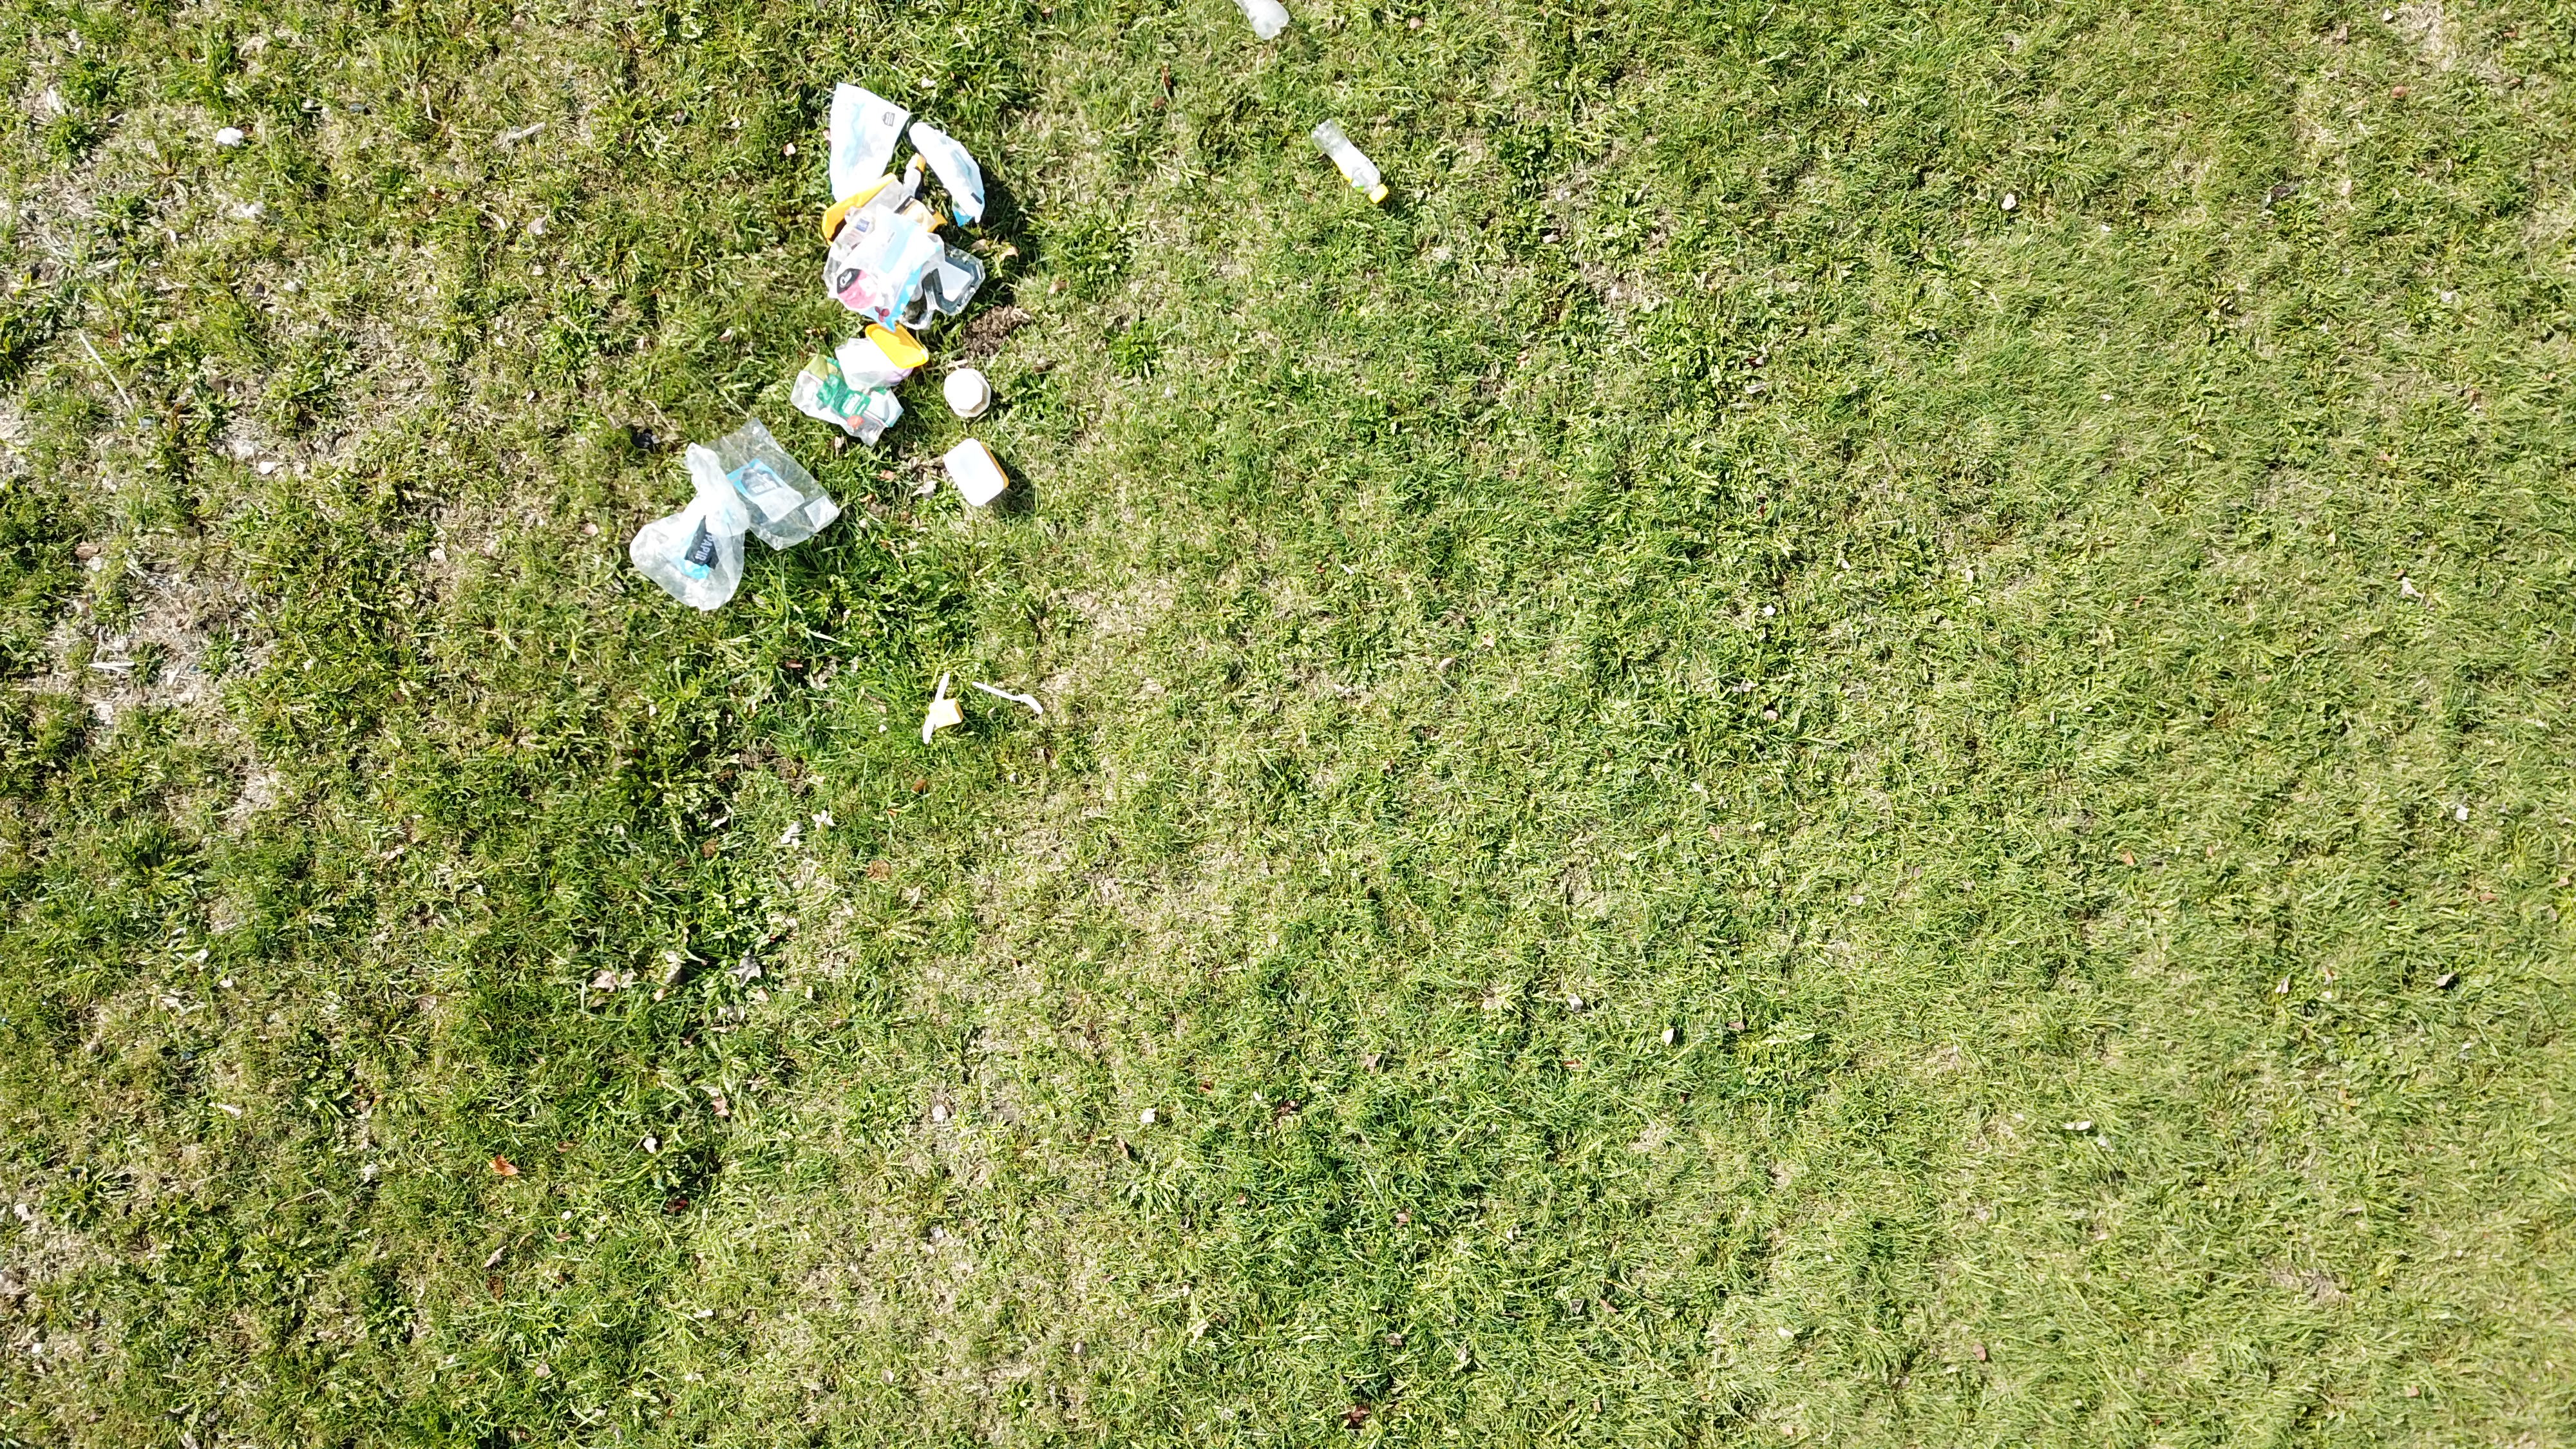Plastic: (630, 444, 743, 616), (713, 419, 842, 552), (823, 209, 938, 322), (793, 356, 906, 446), (830, 78, 911, 196), (819, 173, 950, 242), (909, 120, 985, 226), (899, 246, 989, 329), (939, 439, 1010, 506), (835, 329, 909, 389), (869, 320, 932, 370), (968, 678, 1047, 715), (943, 370, 993, 419), (920, 667, 950, 745), (932, 699, 966, 729)
PlasticBottle: (1313, 119, 1394, 205), (1233, 0, 1292, 42)
